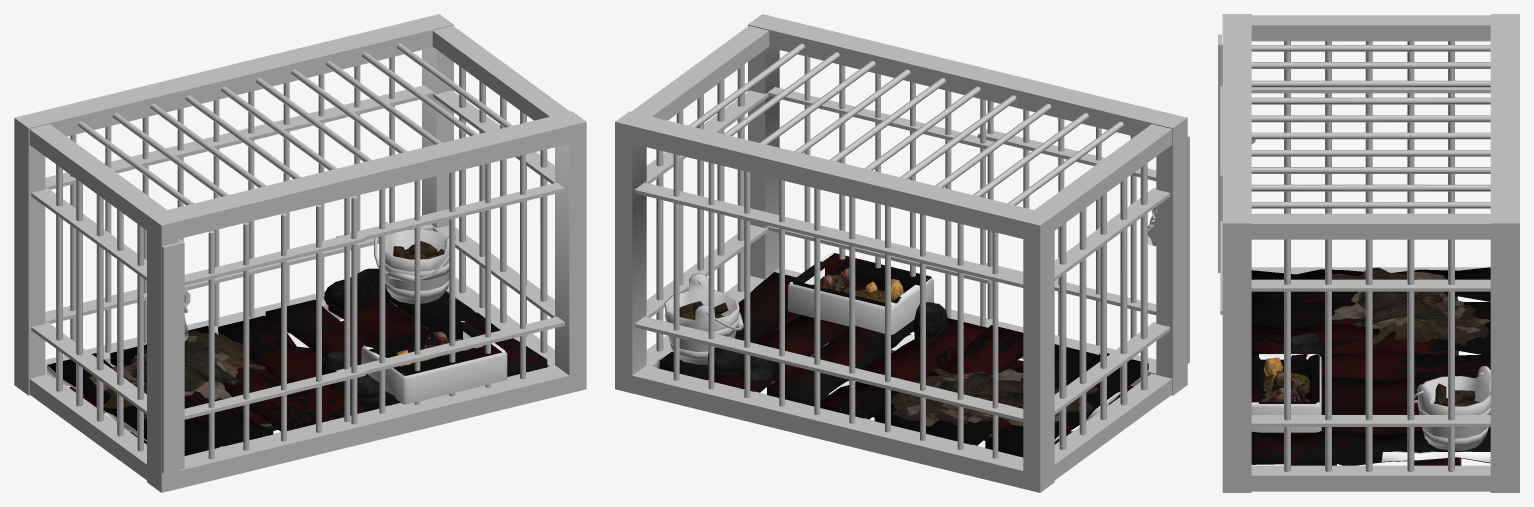
The model's file is cage_02.DAE.
3 views of the same model, side by side, from view 1: azimuth 30°, elevation 25°; view 2: azimuth 150°, elevation 25°; view 3: azimuth 270°, elevation 25° (orthographic).
Visible parts, largest first — view 1: Object028, Object034, Object054, Plane007, Box008, bucket002; view 2: Object028, Object034, Plane007, Object054, Box008, bucket002; view 3: Object028, Object034, Plane007, bucket002, Object054, Box008, polySurface1, Object024, Object032.
Part boxes in pixels (x1,y1,x2,y2): Object028: [14, 14, 586, 492]; Object034: [47, 284, 547, 455]; Object054: [162, 196, 365, 473]; Plane007: [89, 268, 436, 418]; Box008: [361, 346, 507, 404]; bucket002: [378, 221, 455, 304]; Object028: [615, 14, 1187, 492]; Object034: [657, 252, 1148, 457]; Plane007: [708, 289, 1098, 426]; Object054: [977, 101, 1189, 363]; Box008: [788, 278, 933, 334]; bucket002: [664, 273, 739, 364]; Object028: [1222, 14, 1519, 492]; Object034: [1251, 267, 1490, 465]; Plane007: [1263, 267, 1489, 396]; bucket002: [1417, 366, 1490, 450]; Object054: [1218, 34, 1222, 314]; Box008: [1251, 356, 1321, 432]; polySurface1: [1261, 372, 1309, 401]; Object024: [1434, 383, 1475, 406]; Object032: [1252, 296, 1490, 465].
Size of the model in its own units: 2.5 by 1.51 by 1.52.
